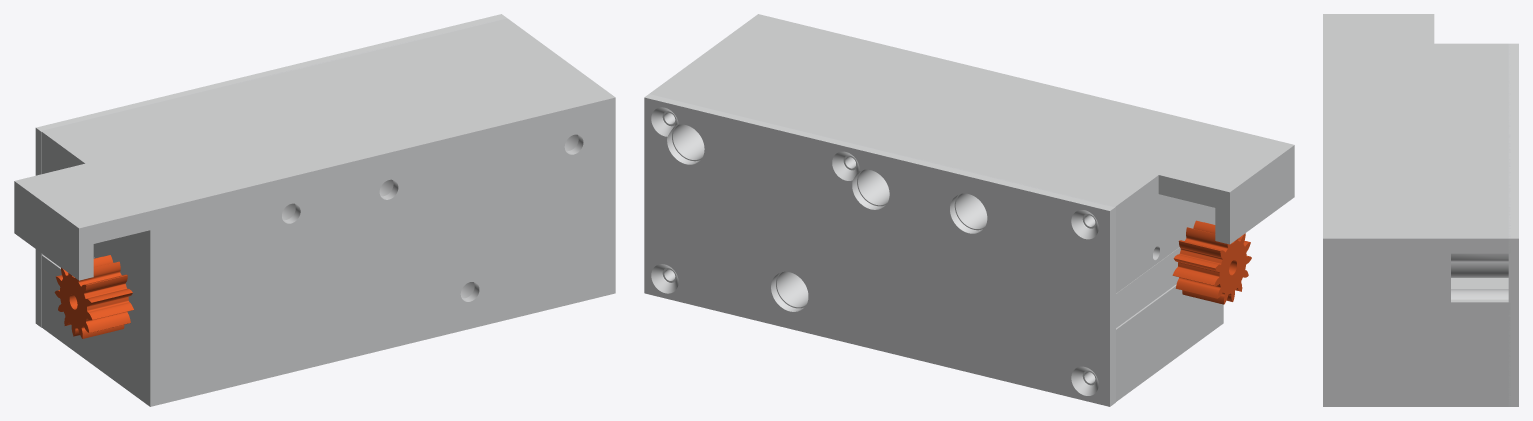
The model's file is v1_closed.glb.
3 views of the same model, side by side, from view 1: azimuth 30°, elevation 25°; view 2: azimuth 150°, elevation 25°; view 3: azimuth 270°, elevation 25° (orthographic). The views are drawn at different scales.
Parts seen in each view (by area): view 1: tub, pinion, lid; view 2: lid, tub, pinion; view 3: tub, lid.
Boxes of the visible parts, left/top/right/bottom form: tub: left=14, top=18, right=615, bottom=406; pinion: left=54, top=255, right=133, bottom=338; lid: left=35, top=14, right=507, bottom=327; lid: left=644, top=94, right=1180, bottom=406; tub: left=649, top=14, right=1294, bottom=401; pinion: left=1172, top=220, right=1251, bottom=304; tub: left=1323, top=14, right=1510, bottom=406; lid: left=1508, top=43, right=1518, bottom=406.
Size of the model in its own units: 0.129 by 0.045 by 0.0475.
